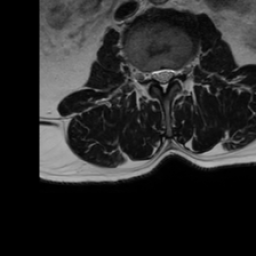CCS_normal: (159, 62, 167, 98)
LFS_stenosis: (176, 60, 185, 86)
LLS_stenosis: (167, 62, 176, 86)
RFS_normal: (144, 62, 151, 87)
RLS_normal: (151, 62, 159, 87)
